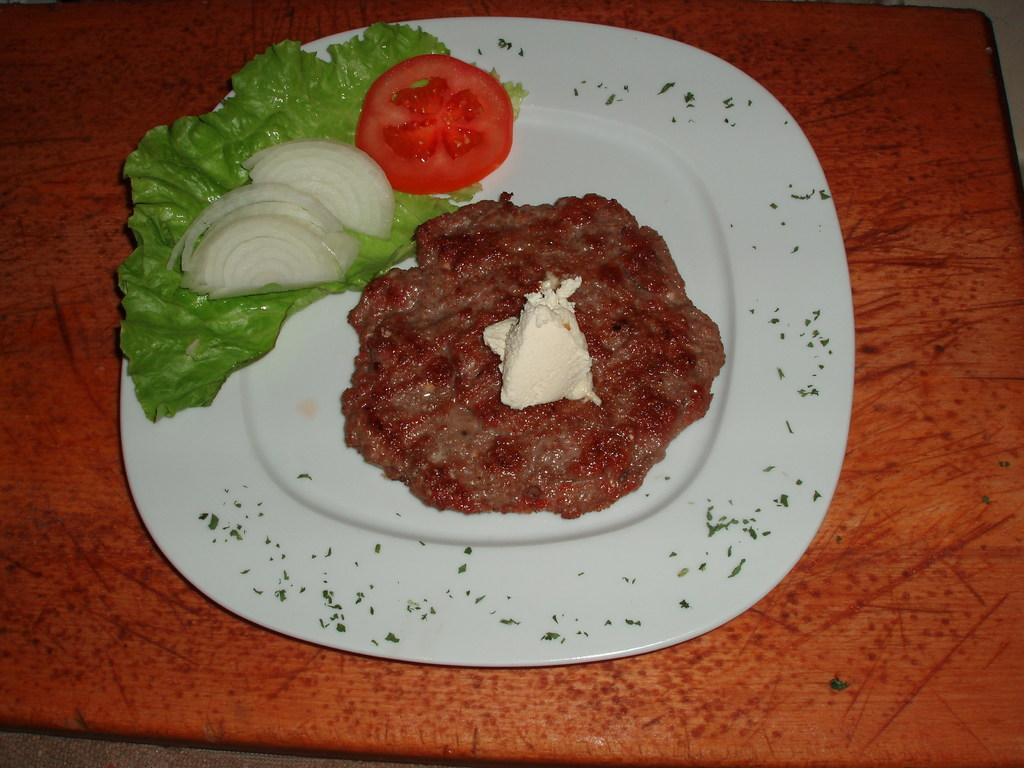Tomato: (350, 51, 522, 175)
